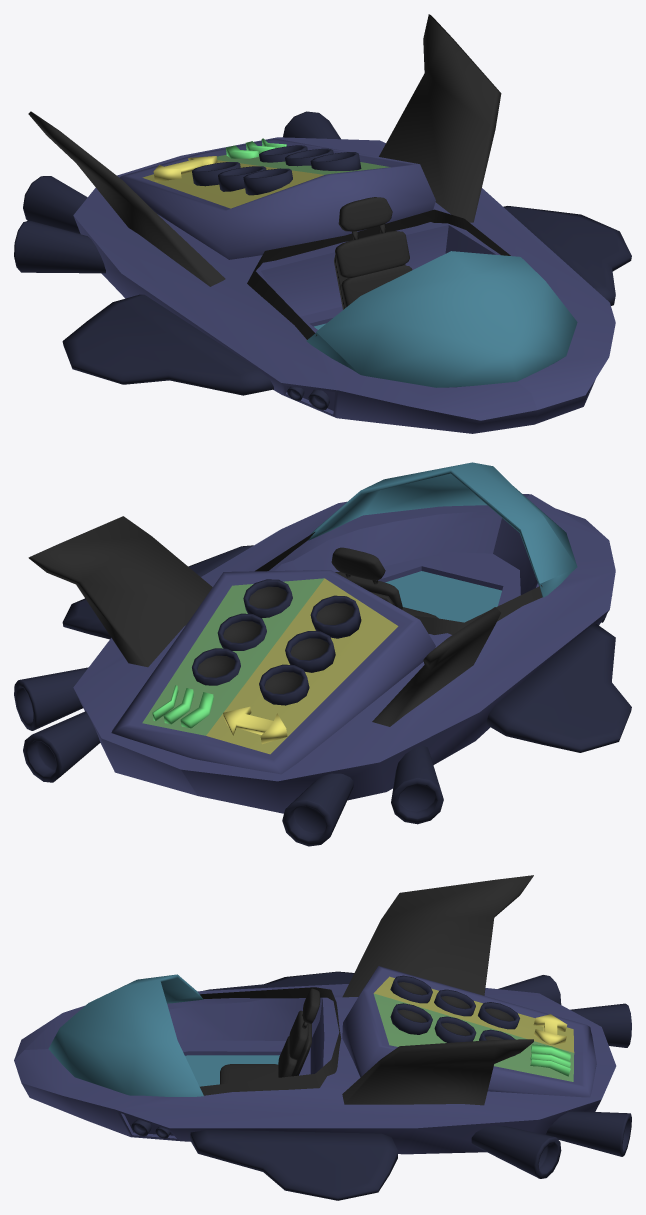
File: CycleEngine_Engine_v1,5.fbx
The picture shows the model from 3 angles, top to bottom: view 1: azimuth 30°, elevation 25°; view 2: azimuth 150°, elevation 25°; view 3: azimuth 270°, elevation 25°; orthographic projection. The views are drawn at different scales.
Visible parts, largest first — view 1: Base, visière, Holders, Cube.003, Wings, Rockets.001, seat, cockpit.003; view 2: Base, Holders, Cube.003, Rockets.001, Wings, visière, Plane, seat, cockpit.003; view 3: Base, Cube.003, Holders, visière, Wings, Rockets.001, cockpit.003, seat, Plane, seat.001.
Part boxes in pixels (x1,y1,x2,y2): Base: [73, 137, 615, 433]; visière: [306, 251, 577, 387]; Holders: [119, 138, 435, 259]; Cube.003: [28, 14, 501, 286]; Wings: [62, 206, 631, 395]; Rockets.001: [14, 111, 340, 273]; seat: [334, 197, 412, 309]; cockpit.003: [247, 209, 510, 339]; Base: [73, 494, 615, 813]; Holders: [111, 570, 435, 774]; Cube.003: [28, 516, 500, 726]; Rockets.001: [14, 667, 443, 846]; Wings: [62, 545, 631, 752]; visière: [308, 462, 577, 597]; Plane: [385, 571, 501, 622]; seat: [331, 547, 402, 609]; cockpit.003: [255, 532, 542, 634]; Base: [14, 984, 616, 1154]; Cube.003: [342, 875, 533, 1105]; Holders: [342, 966, 596, 1097]; visière: [48, 974, 203, 1096]; Wings: [190, 971, 397, 1200]; Rockets.001: [471, 975, 631, 1178]; cockpit.003: [200, 987, 341, 1095]; seat: [278, 988, 320, 1077]; Plane: [185, 1055, 279, 1086]; seat.001: [220, 1064, 278, 1084].
Bounding box in the file's own units: 571 × 169 × 660.
